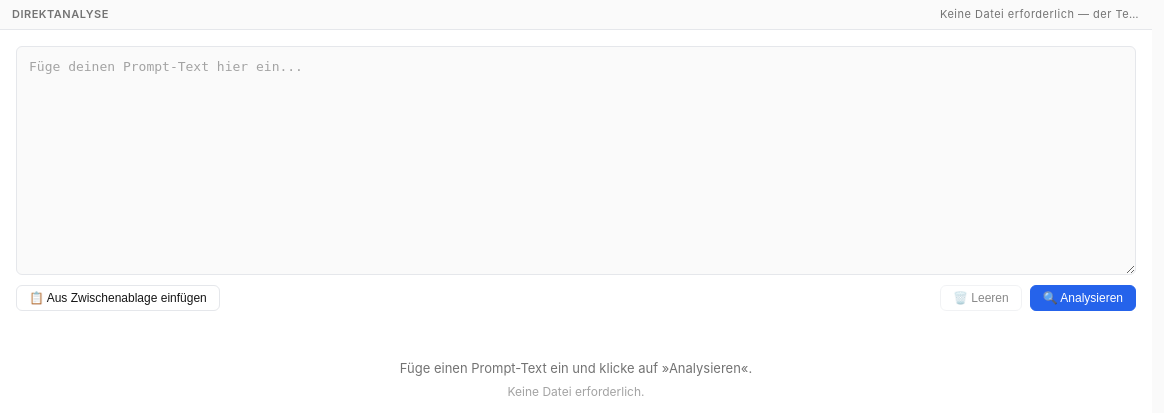
PastePromptAnalyzer › shows fallback message when clipboard API is unavailable
Click the button "📋 Aus Zwischenablage einfügen" at x=118, y=298, box [16,286,220,312]
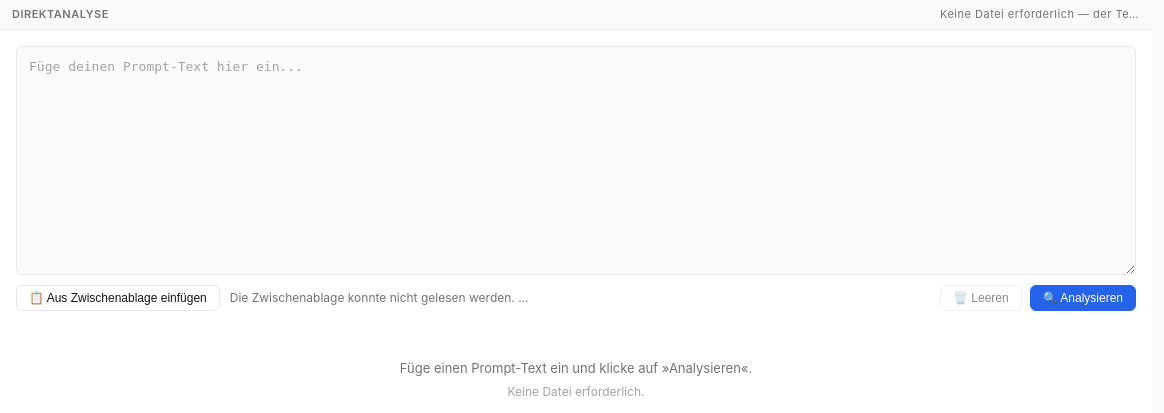
Check: the text "konnte nicht gelesen werden" is shown, box [230,290,697,306]
